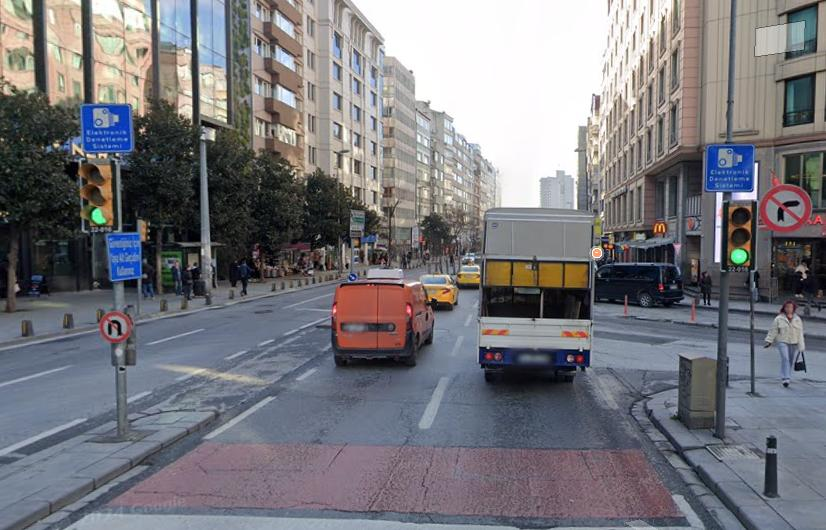greenlight: (80, 161, 117, 225), (726, 205, 755, 263)
rightturnsareforbidden: (762, 186, 811, 232)
